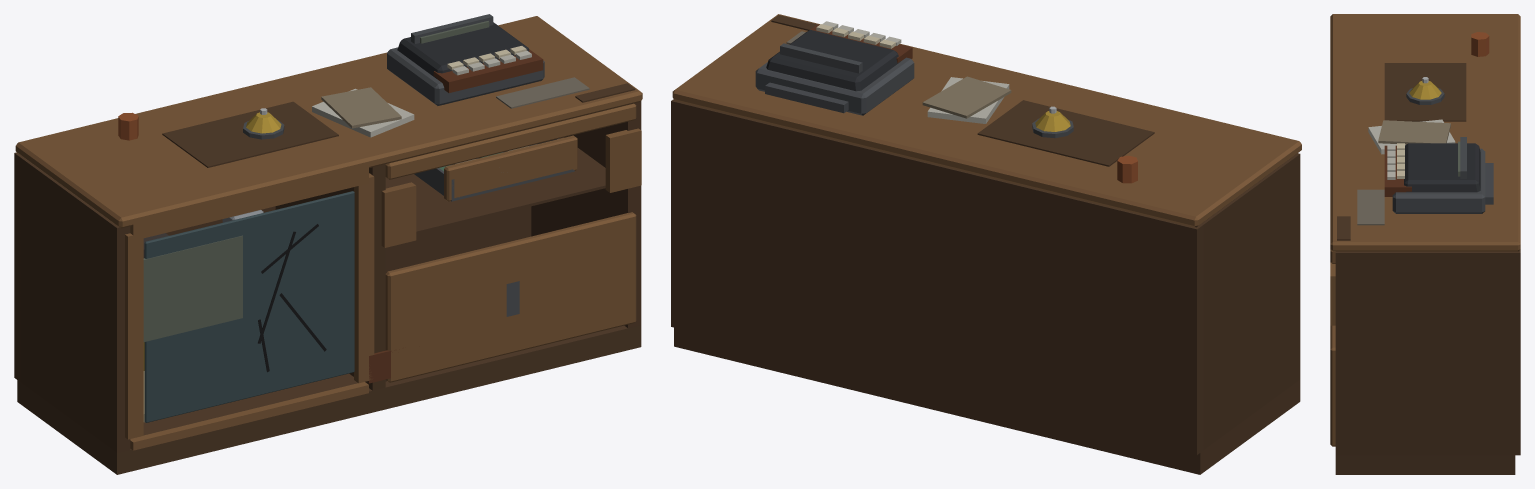
Rendered from furn_shop_counter.fbx.
3 views of the same model, side by side, from view 1: azimuth 30°, elevation 25°; view 2: azimuth 150°, elevation 25°; view 3: azimuth 270°, elevation 25° (orthographic). The views are drawn at different scales.
Visible parts, largest first — view 1: furn_shop_counter, Drawer_1; view 2: furn_shop_counter; view 3: furn_shop_counter.
Part boxes in pixels (box(x1,y1,x2,y2)): furn_shop_counter: box(14, 14, 642, 474); Drawer_1: box(414, 135, 577, 201); furn_shop_counter: box(671, 14, 1301, 474); furn_shop_counter: box(1330, 14, 1520, 474).
Bounding box in the file's own units: 2 × 1.09 × 0.7.
